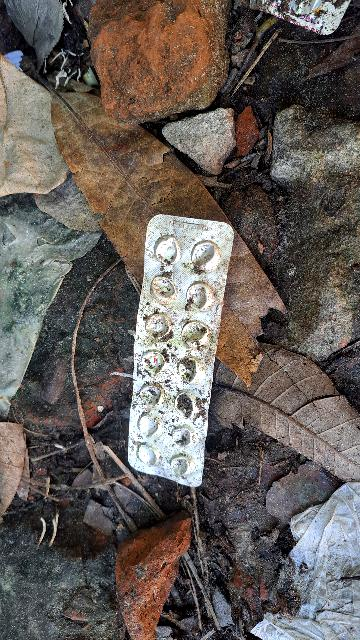medicine: (127, 214, 238, 488)
